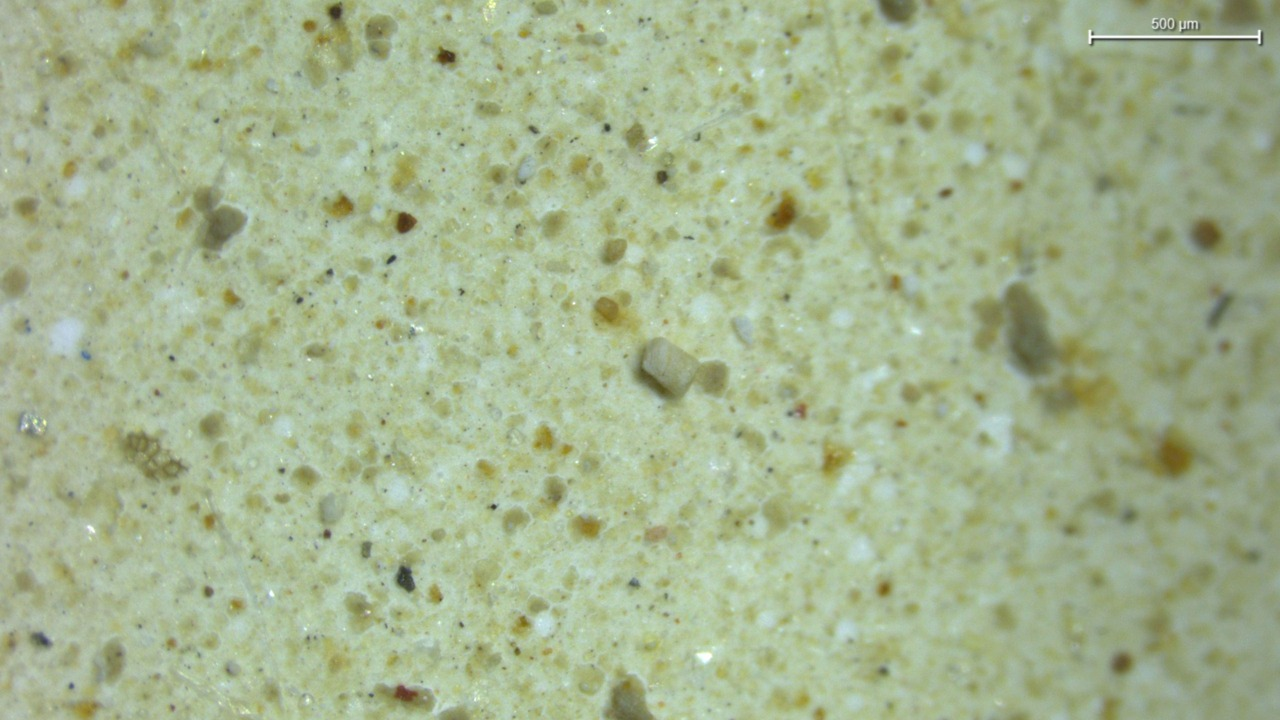microplastic_fragment: (640, 337, 699, 396), (319, 493, 346, 525)
